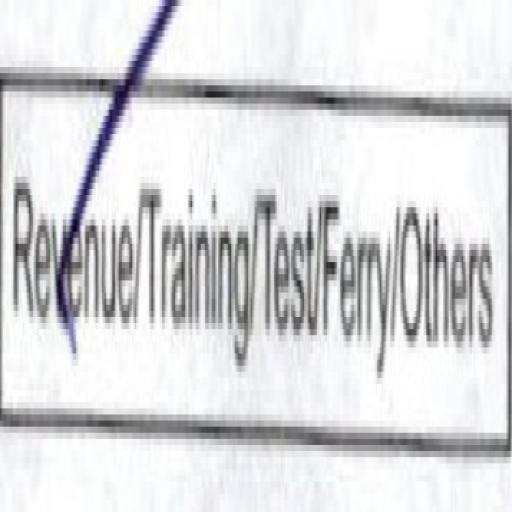check: (0, 0, 142, 482)
